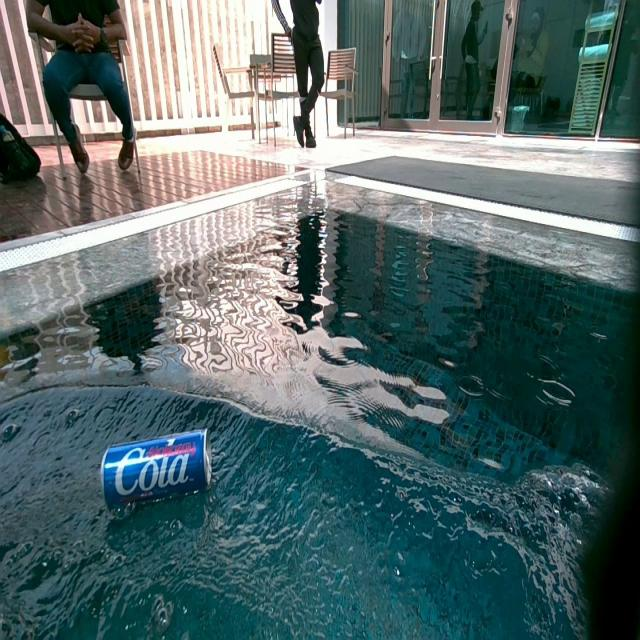Cans: (101, 427, 214, 509)
